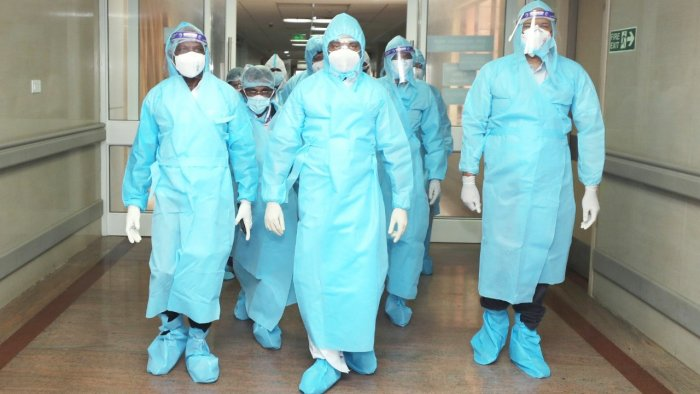Coverall: (281, 75, 398, 350), (471, 57, 588, 301), (139, 75, 241, 324)
Gloves: (454, 164, 486, 215), (259, 193, 291, 236), (577, 173, 600, 230), (388, 202, 412, 244), (234, 197, 256, 241), (120, 201, 142, 244), (424, 171, 445, 205)
with_mask: (520, 22, 555, 57), (329, 40, 358, 73), (176, 43, 203, 77), (388, 52, 414, 84), (246, 86, 273, 115)
